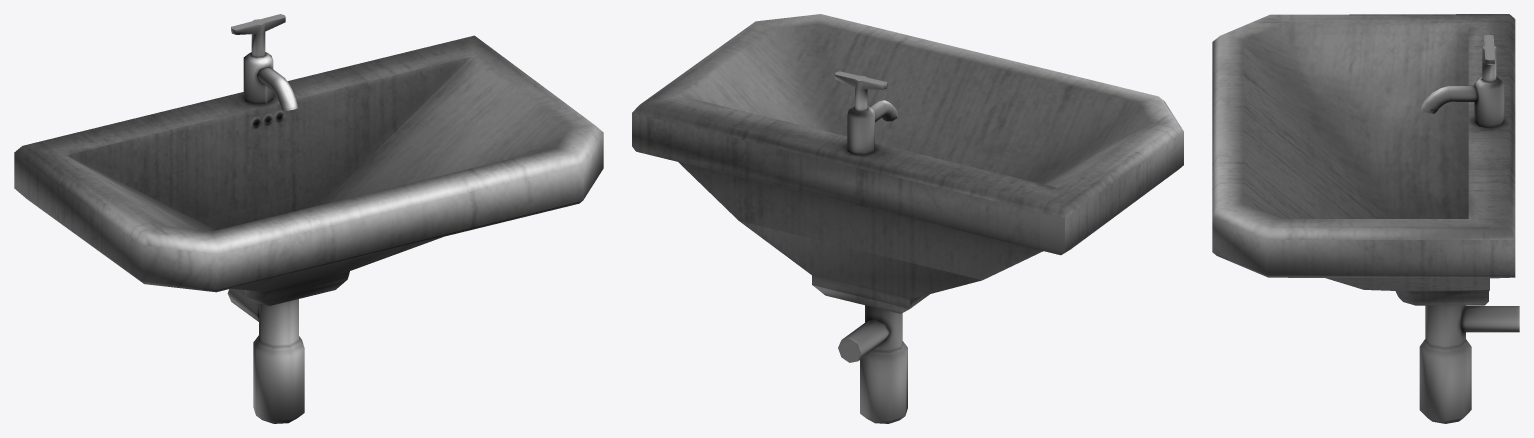
File: sink.obj
3 renders of one model, left to right at view 1: azimuth 30°, elevation 25°; view 2: azimuth 150°, elevation 25°; view 3: azimuth 270°, elevation 25°, orthographic. The views are drawn at different scales.
Parts seen in each view (by area): view 1: sink; view 2: sink; view 3: sink.
Boxes of the visible parts, x1,y1,x2,y2 form: sink: (14, 14, 603, 423); sink: (632, 14, 1183, 423); sink: (1212, 14, 1519, 423).
Size of the model in its own units: 143 by 111 by 84.
Materials: 1 (1 with a texture image).
